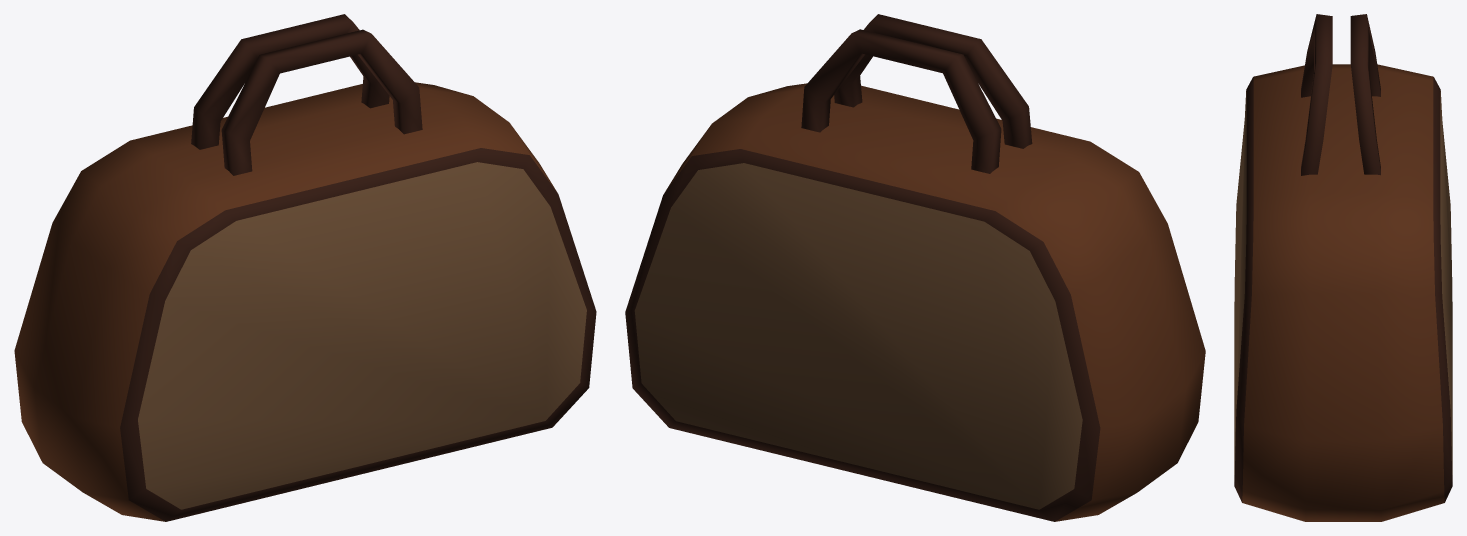
Rendered from PROP_Bag_2.fbx.
The picture shows the model from 3 angles, left to right: view 1: azimuth 30°, elevation 25°; view 2: azimuth 150°, elevation 25°; view 3: azimuth 270°, elevation 25°; orthographic projection. The views are drawn at different scales.
Parts seen in each view (by area): view 1: Bag_2; view 2: Bag_2; view 3: Bag_2.
Part boxes in pixels (bbox=[...]): Bag_2: bbox=[14, 14, 596, 521]; Bag_2: bbox=[625, 14, 1205, 521]; Bag_2: bbox=[1234, 14, 1452, 521].
Bounding box in the file's own units: 0.3673 × 0.2897 × 0.1468.
